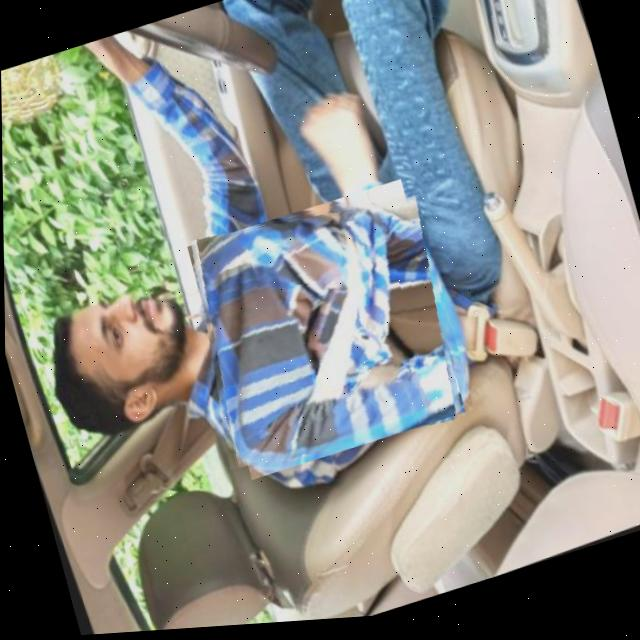seatbelt: (174, 179, 472, 490)
